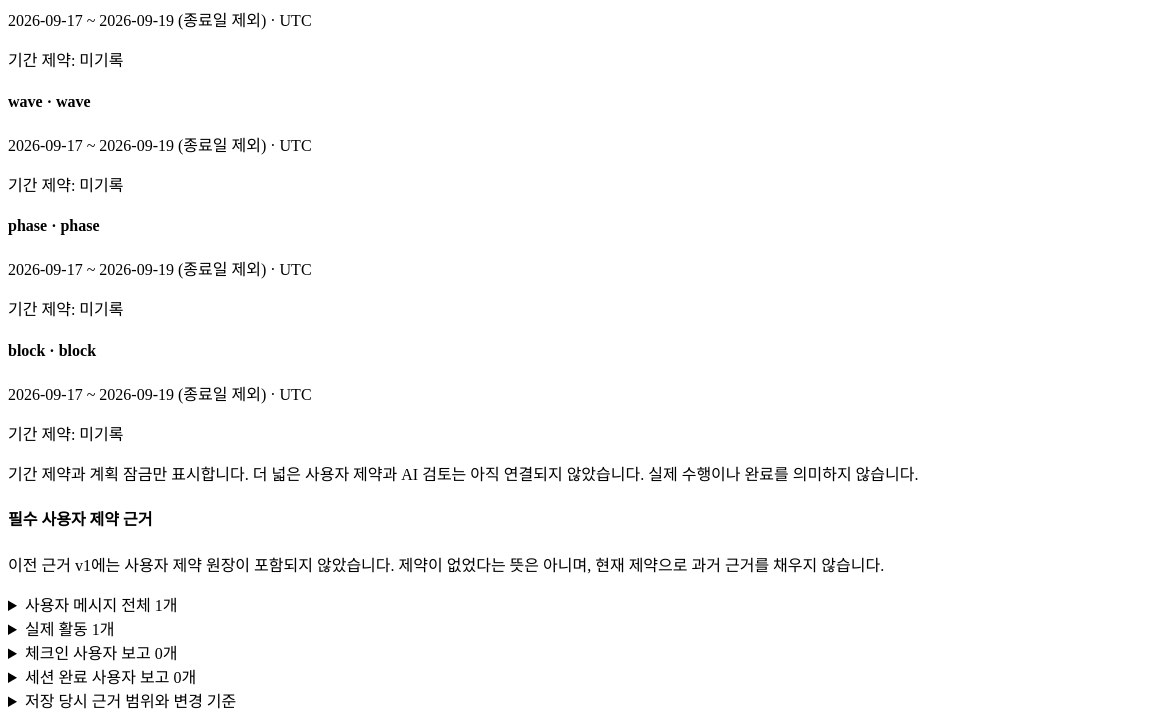
it: frozen evidence view › keeps legacy v1 exclusions explicit instead of implying absence or inserting current constraints
The width and height of the screenshot is (1152, 720).
(page scrolled)
Expected: the element "필수 사용자 제약 근거" shows "이전 근거 v1에는 사용자 제약 원장이 포함되지 않았습니다", [8,556,884,574]
Expected: the element "필수 사용자 제약 근거" shows "제약이 없었다는 뜻은 아니며", [8,556,884,574]
Click the heading "저장 당시 근거 범위와 변경 기준": (131, 701) [25,692,236,710]
(page scrolled)
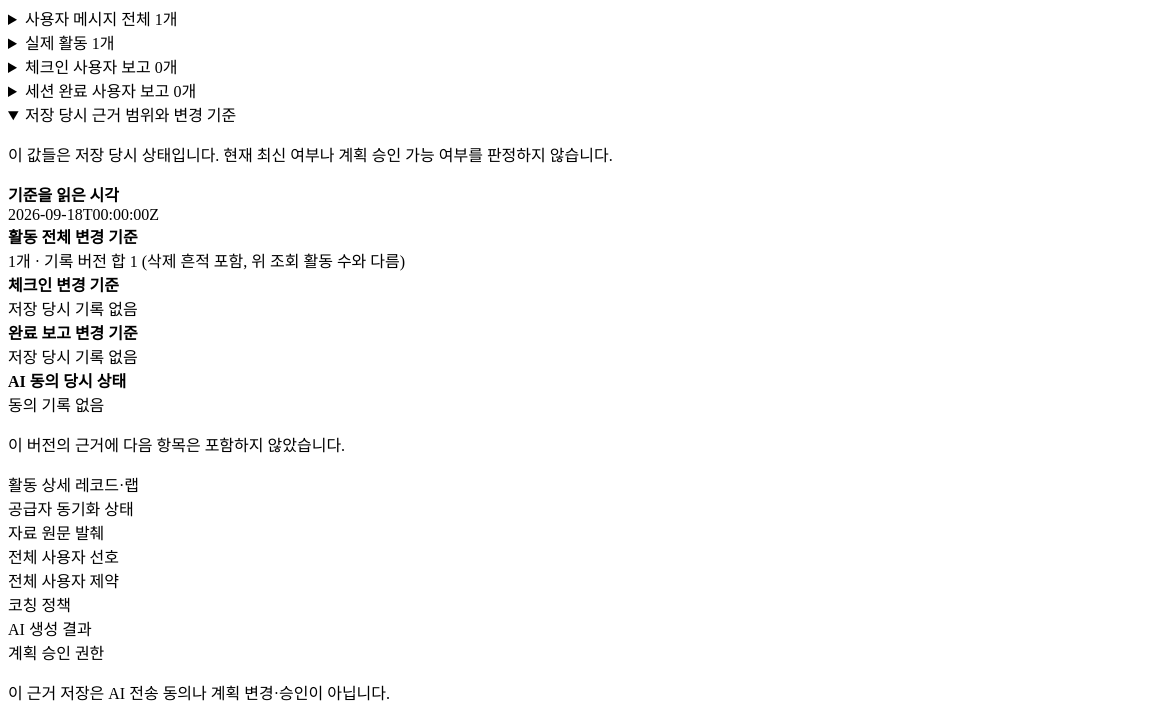
Result: the list item "전체 사용자 제약" is shown at [8,572,119,590]
